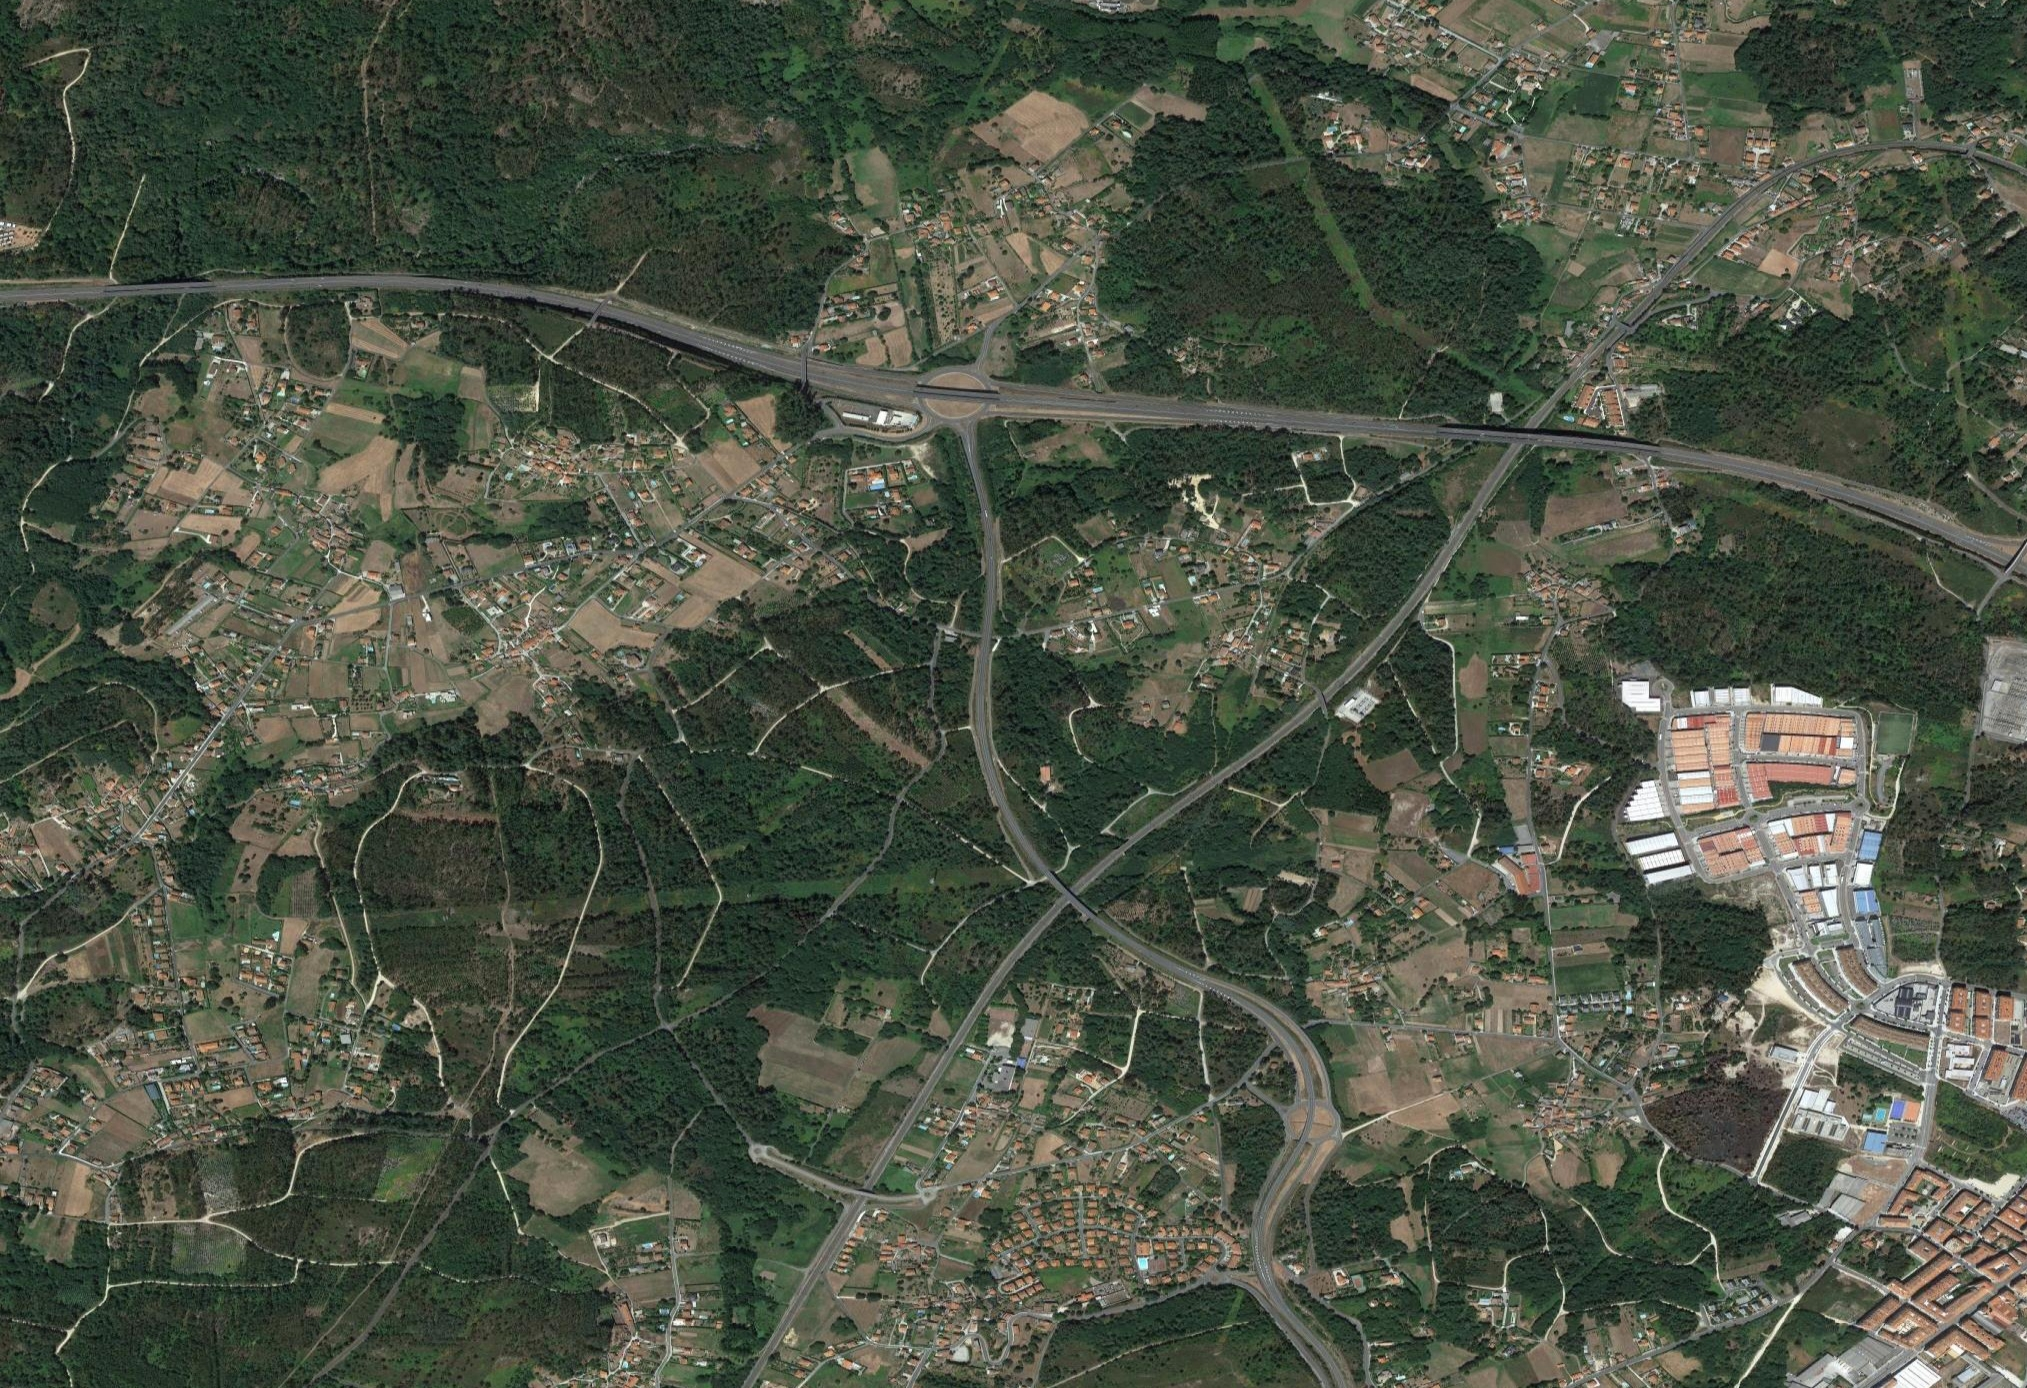industrial: (1630, 669, 1898, 897)
motorway: (1724, 448, 2027, 584), (1302, 391, 1722, 485), (921, 356, 1302, 454), (638, 308, 923, 402), (1260, 595, 1422, 749), (1078, 747, 1261, 880), (1694, 123, 1881, 251), (327, 260, 635, 336), (940, 887, 1069, 1061), (1238, 1199, 1355, 1388), (1238, 994, 1345, 1197), (829, 1061, 946, 1243), (1553, 246, 1690, 393), (1067, 886, 1234, 1003), (963, 724, 1075, 890), (1419, 438, 1536, 595), (2, 260, 325, 313), (961, 454, 1017, 726), (729, 1246, 833, 1388)
